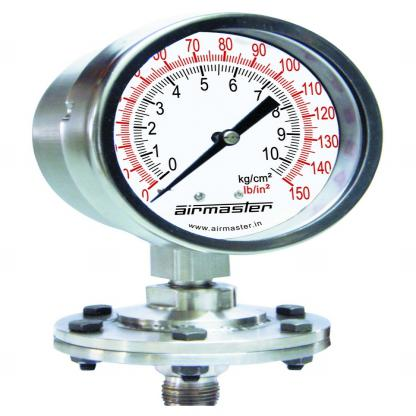needle: (147, 139, 228, 204)
